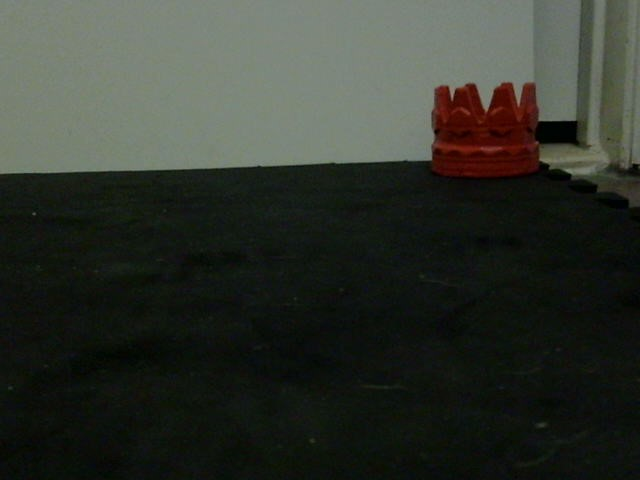crown: (428, 80, 544, 179)
